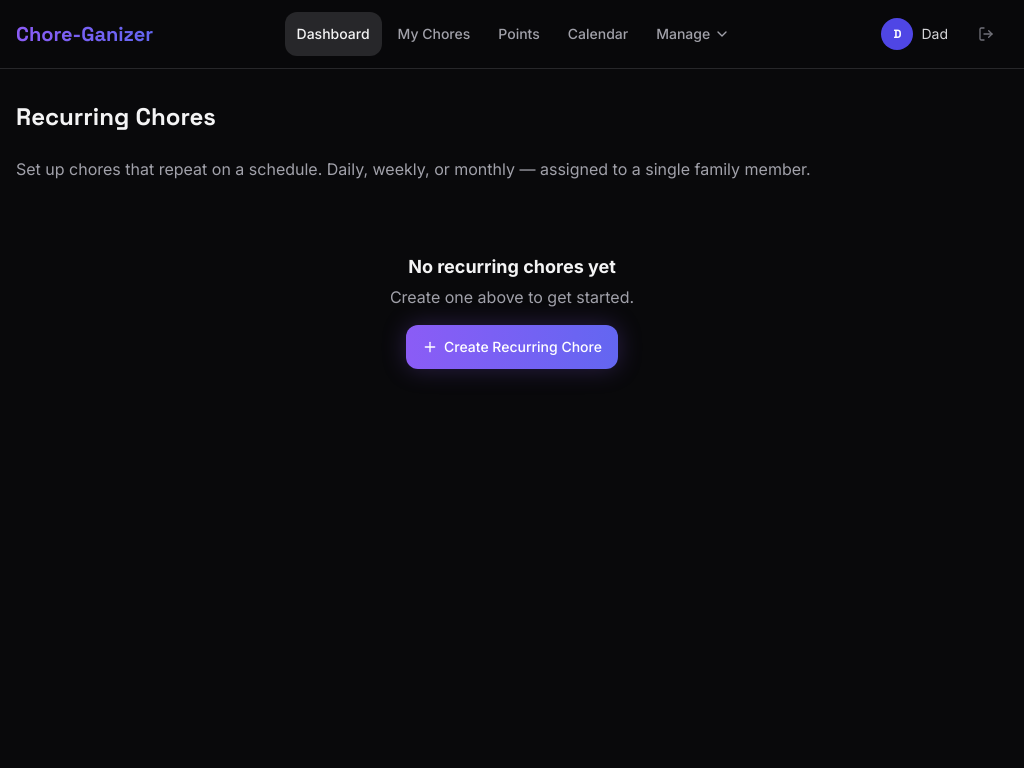
Test case: RecurringChoresPage › shows dayOfWeek field when frequency is WEEKLY
Click the button "Create Recurring Chore" at (512, 347), box 406,325 -> 618,369
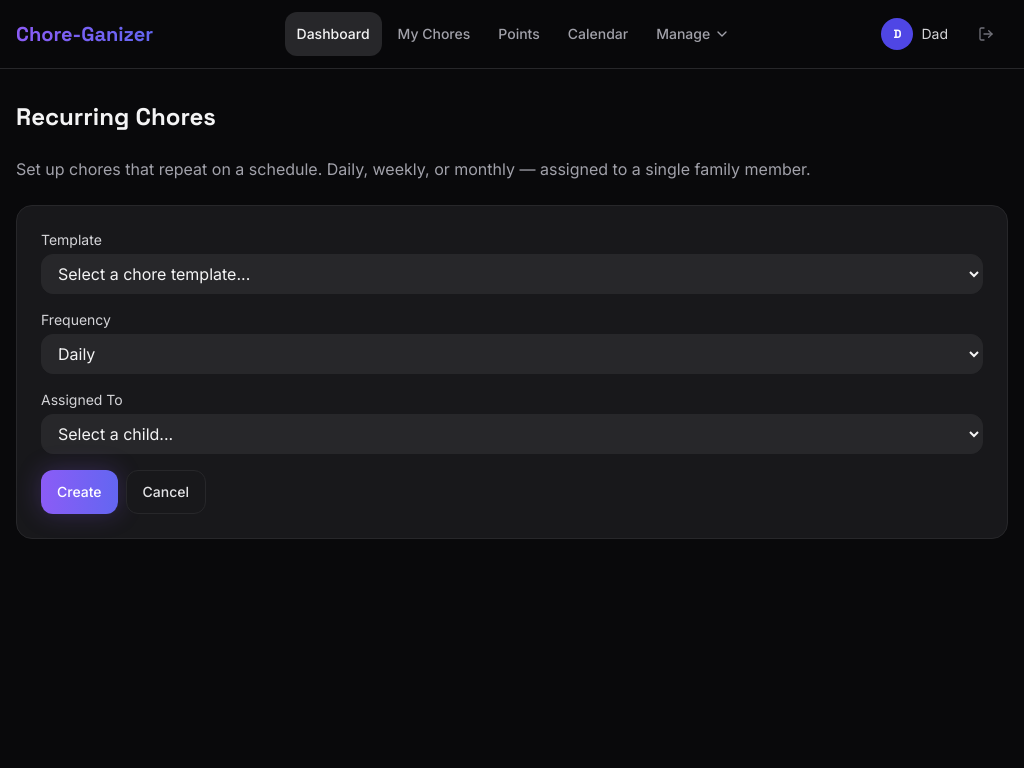
Select "Weekly" in the dropdown labelled "Frequency" at (512, 354), box 41,334 -> 983,374
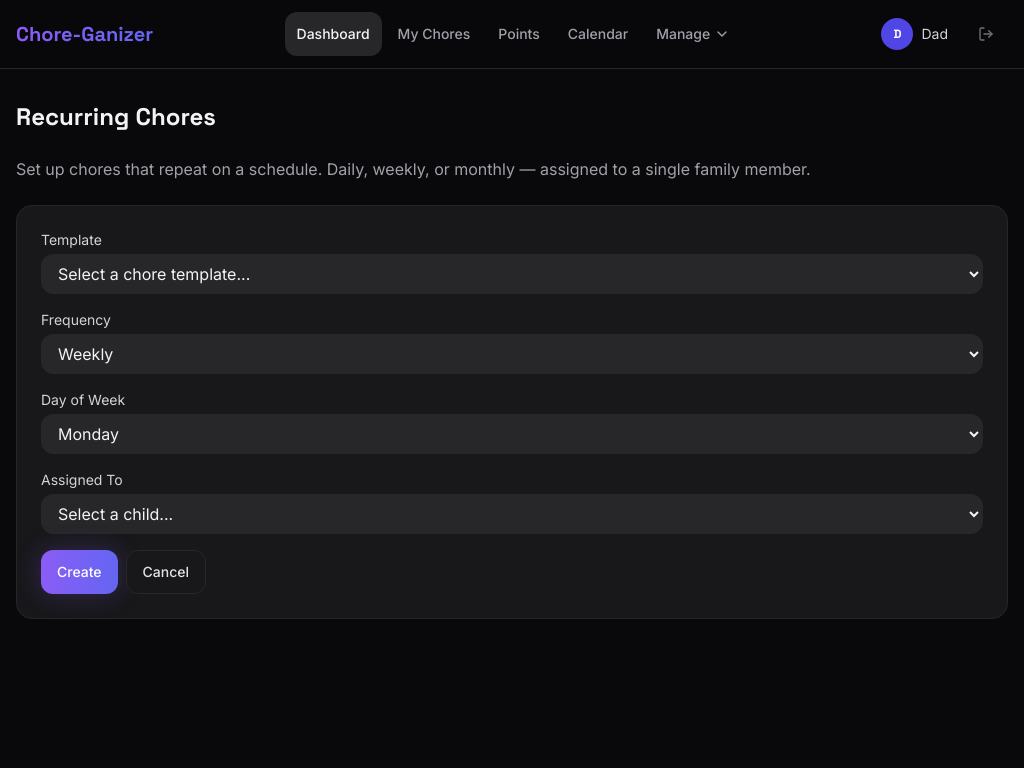
expect the dropdown labelled "Day of Week" is shown: met, box 41,414 -> 983,454
